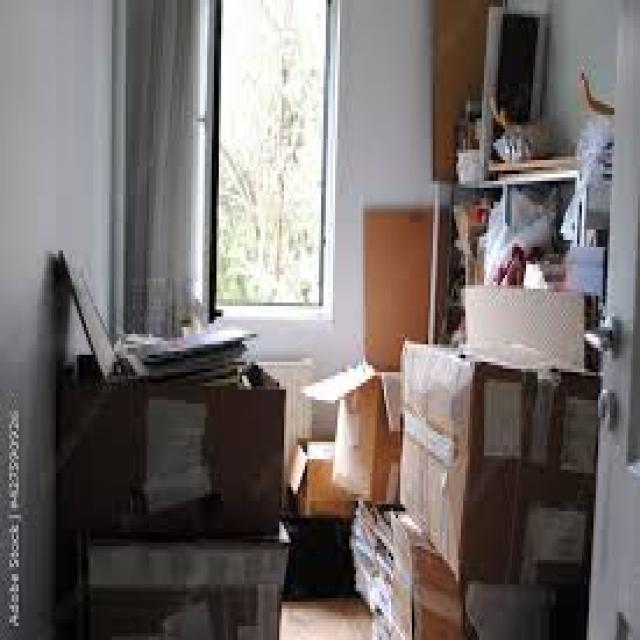box: (73, 370, 297, 532), (406, 345, 540, 582), (72, 543, 287, 638), (325, 347, 402, 511)
